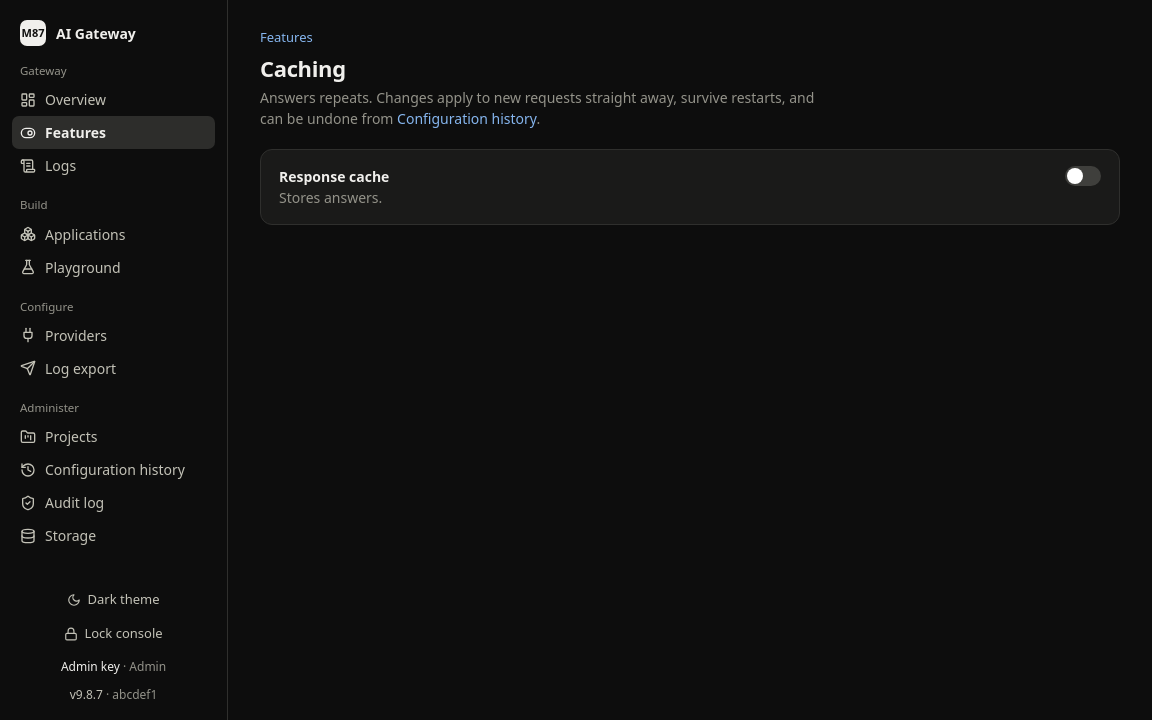
Scenario: features › explains a refused save and reloads the latest values
The image size is (1152, 720).
Click the switch named "Response cache". click: (1083, 176)
box: [1065,166,1101,186]
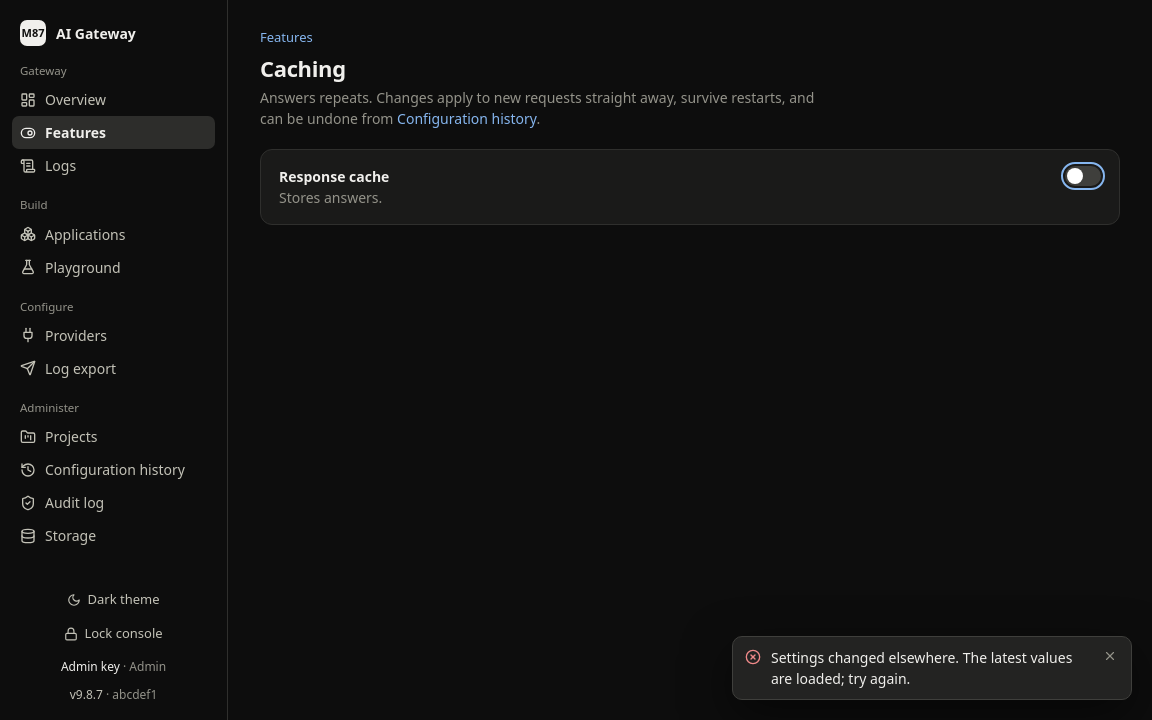
Now the text "Settings changed elsewhere" is shown, box [771,648,1072,688]
